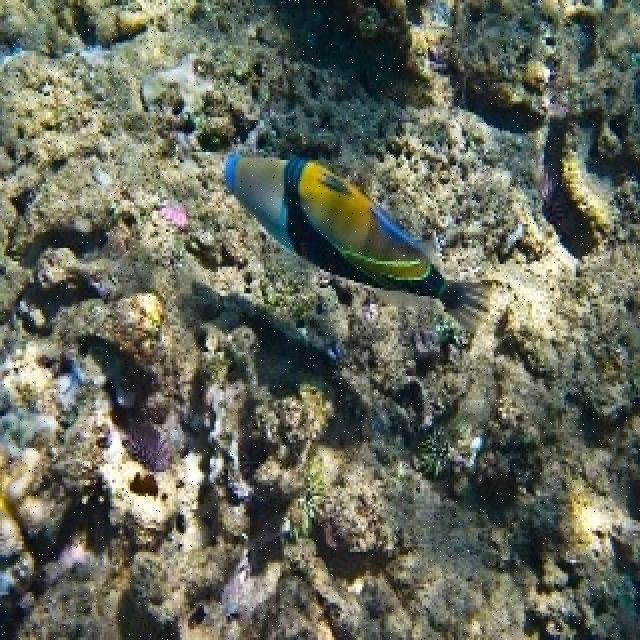fish: (223, 154, 504, 348)
